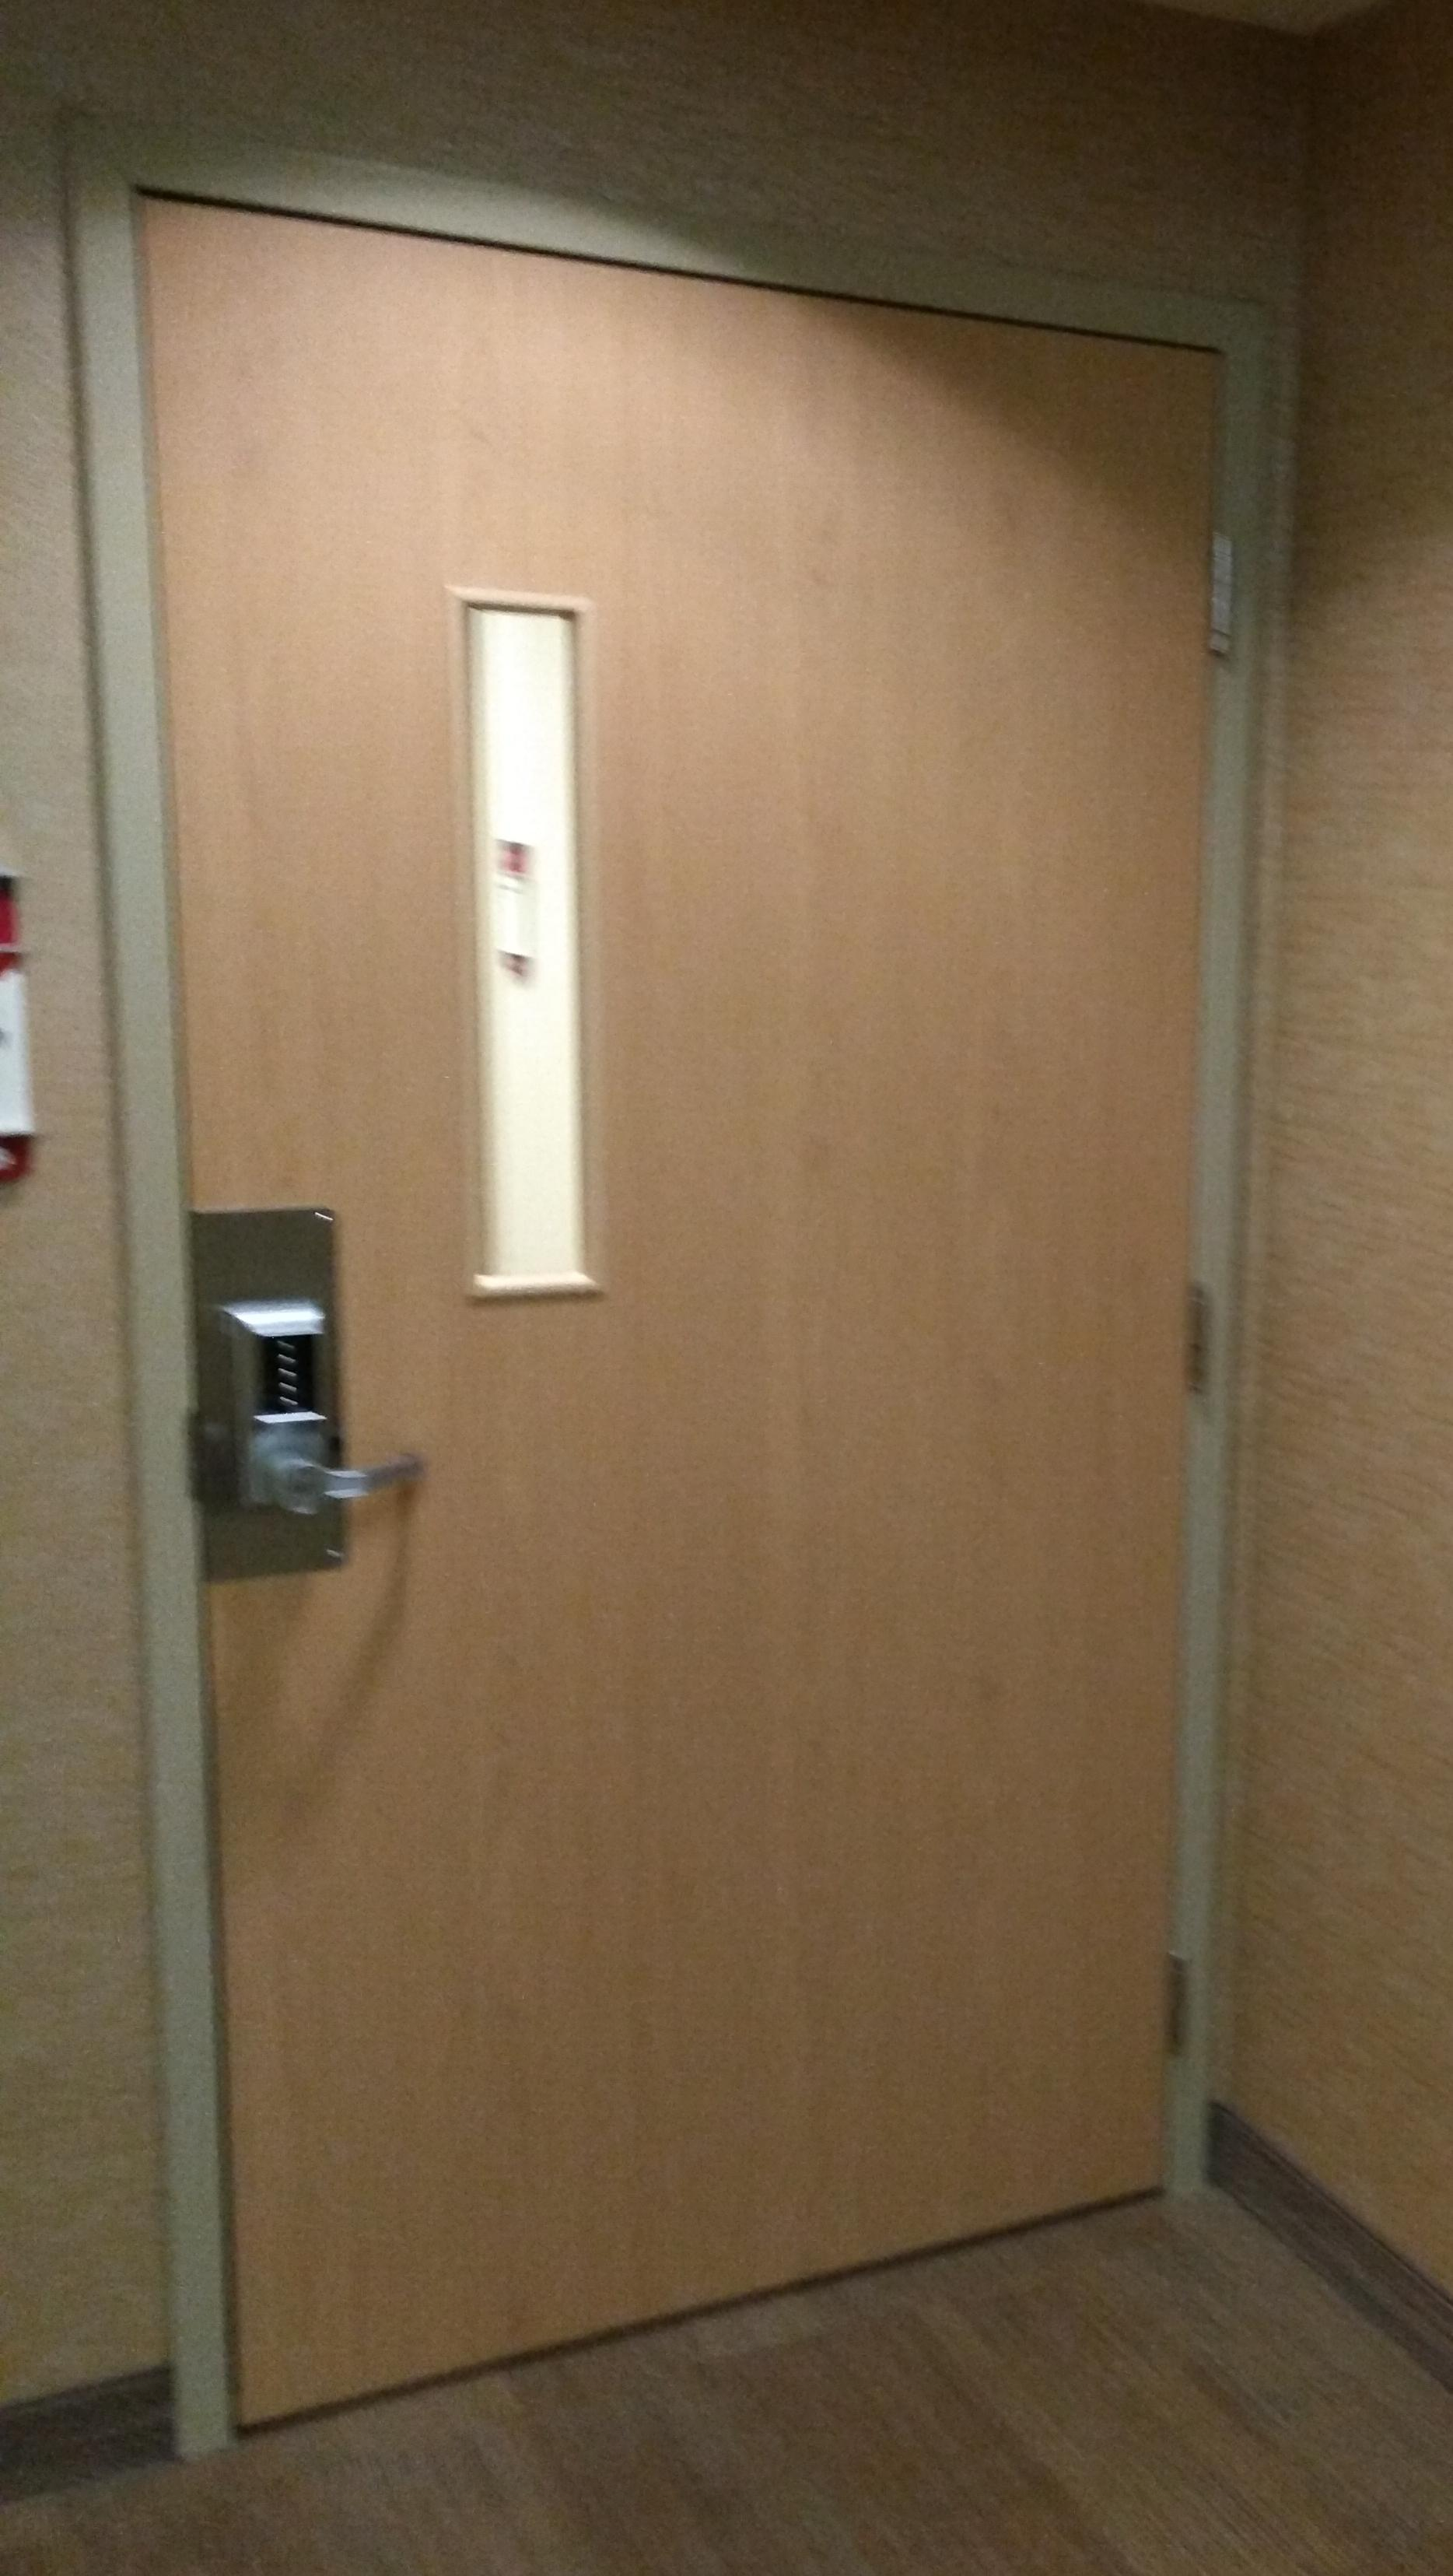door: (110, 166, 1205, 2387)
